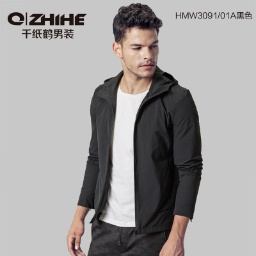face: (110, 4, 165, 80)
